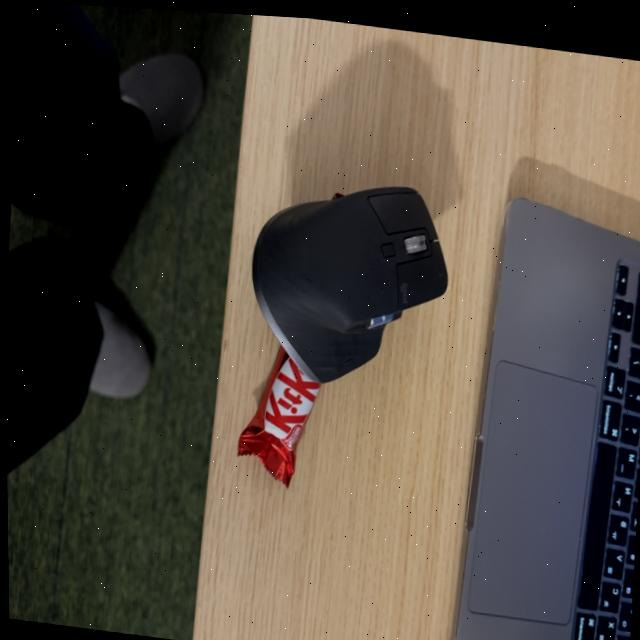chocolate: (226, 312, 325, 493)
